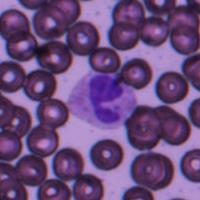M: (68, 71, 136, 129)
